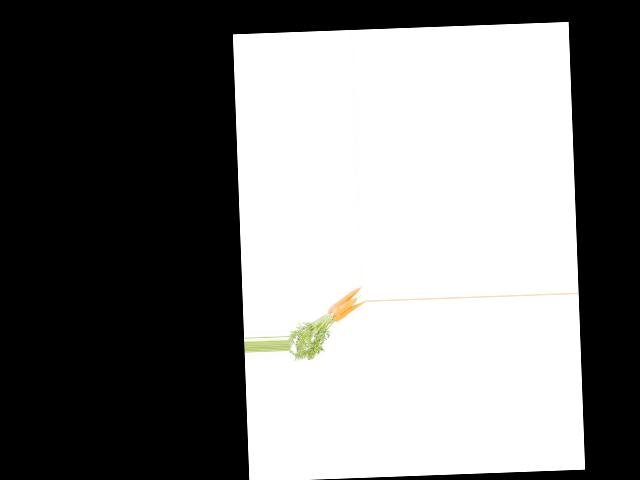carrot: (333, 300, 365, 323)
